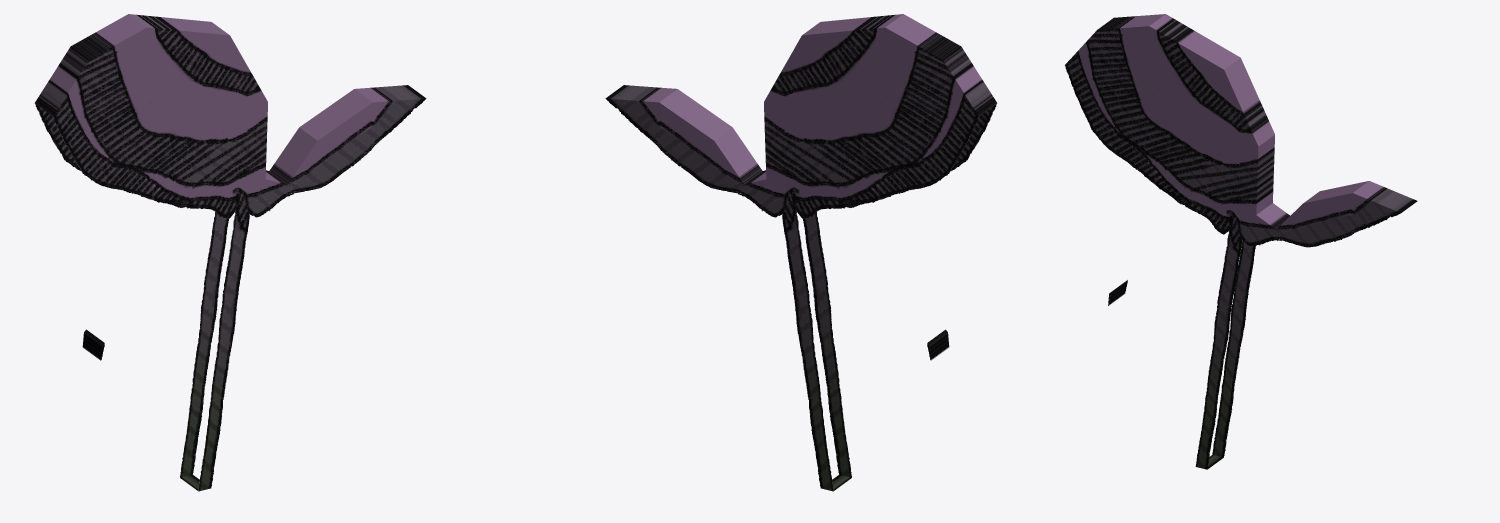
File: Candy_1.fbx
3 renders of one model, left to right at view 1: azimuth 30°, elevation 25°; view 2: azimuth 150°, elevation 25°; view 3: azimuth 330°, elevation 25°, orthographic. The views are drawn at different scales.
Parts seen in each view (by area): view 1: Candy_1; view 2: Candy_1; view 3: Candy_1.
Part boxes in pixels (x1=…): Candy_1: x1=34, y1=14, x2=426, y2=491; Candy_1: x1=605, y1=14, x2=997, y2=491; Candy_1: x1=1065, y1=14, x2=1417, y2=469.
Size of the model in its own units: 176 by 171 by 12.
